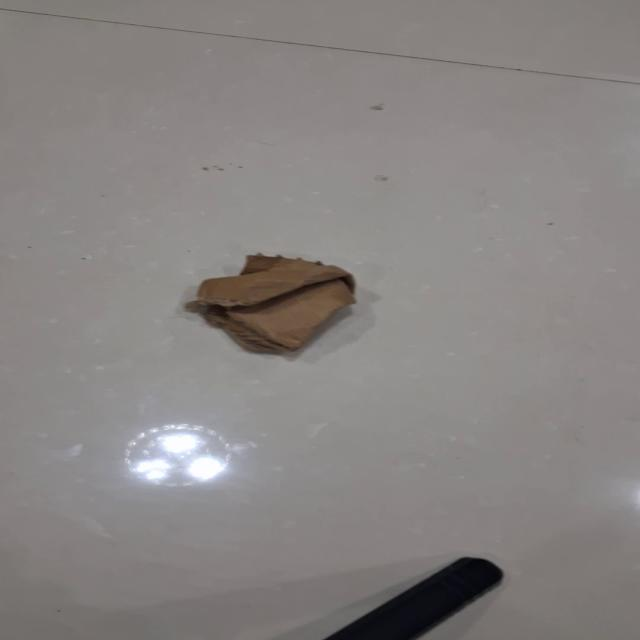paper: (185, 252, 358, 355)
